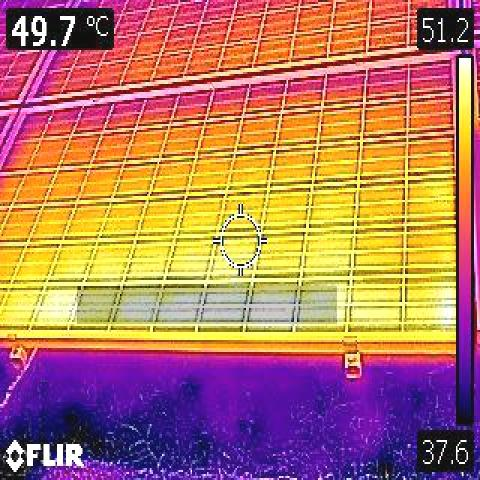fault: (77, 286, 337, 324)
